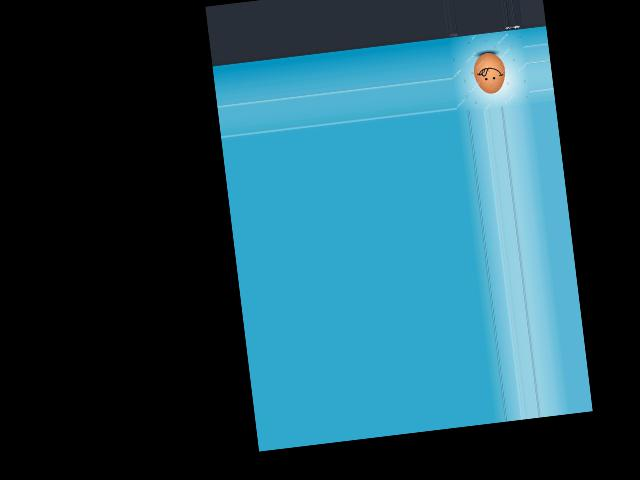egg: (471, 51, 507, 95)
